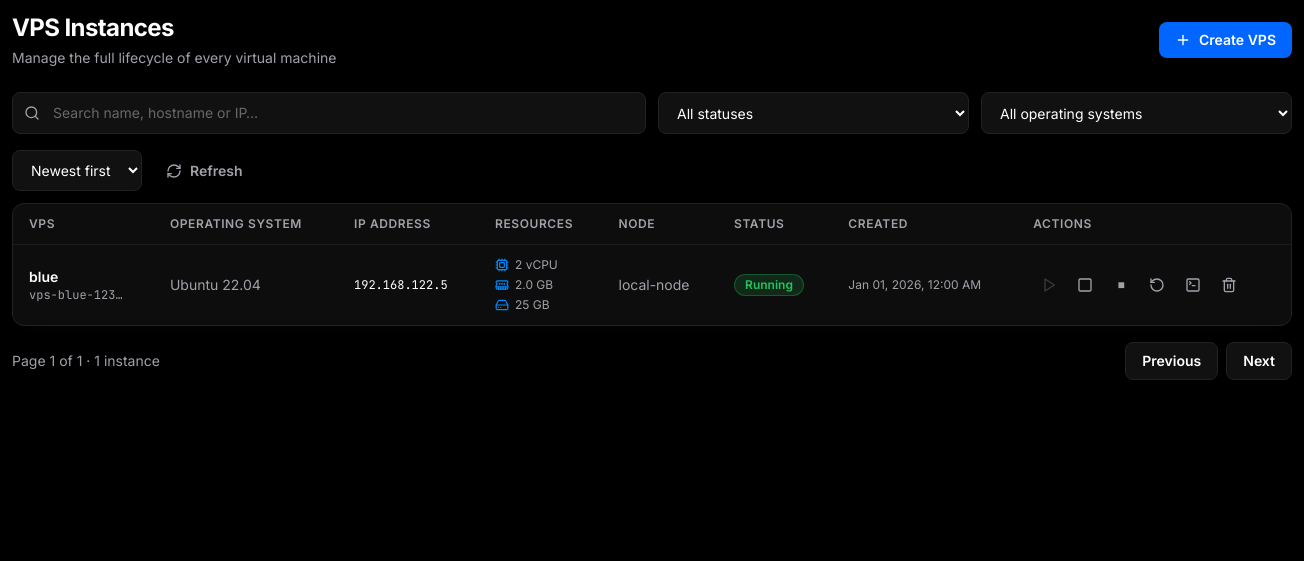
Test case: VPS list navigation › opens the delete confirmation without navigating or deleting immediately
The image size is (1304, 561).
Click the button titled "Delete" at x=1229, y=285, box [1213, 269, 1245, 301]
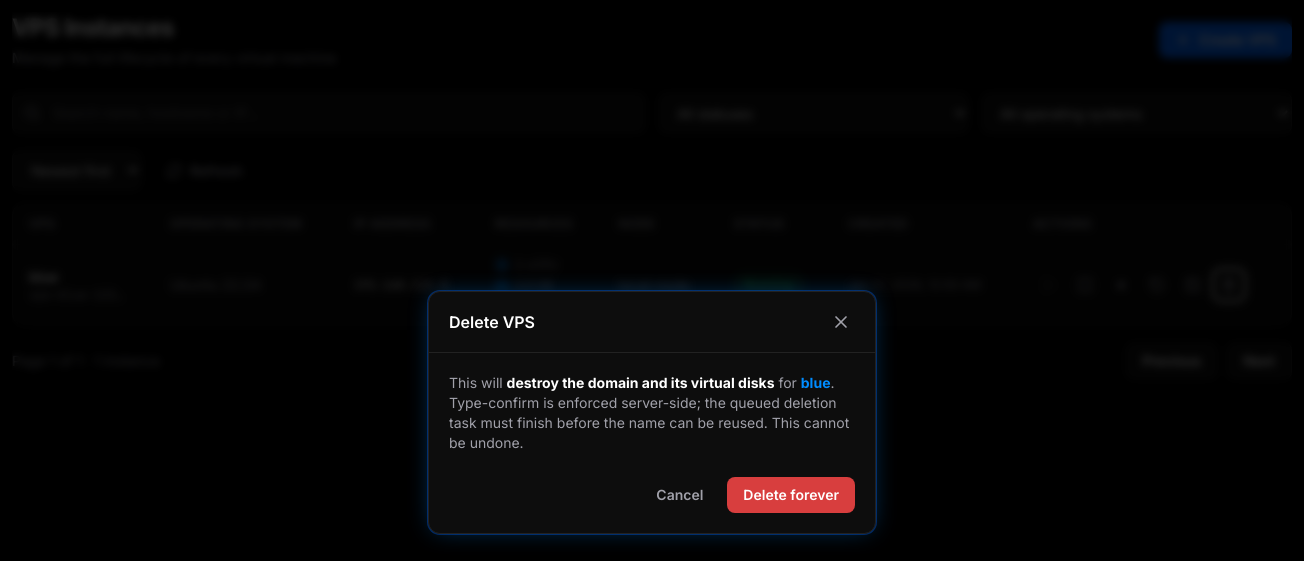
Check: the heading "Delete VPS" is shown, box [449, 310, 535, 334]
